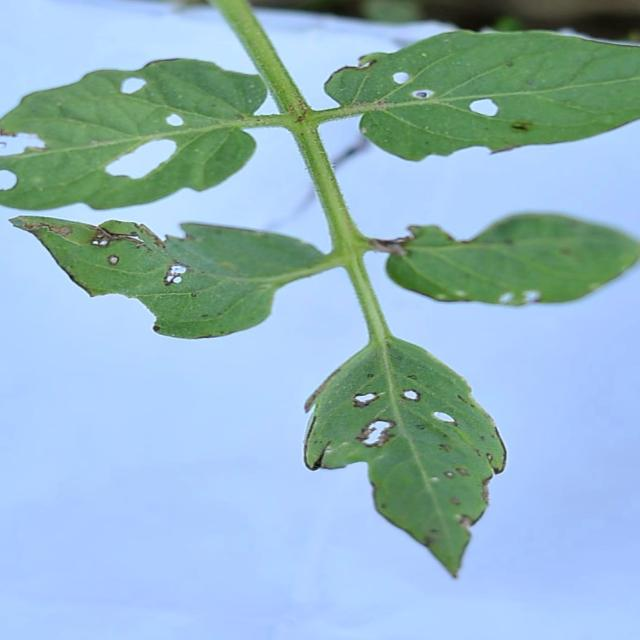infected: (298, 370, 516, 580), (3, 211, 270, 322), (0, 62, 201, 198), (381, 210, 640, 307), (332, 53, 560, 150)
